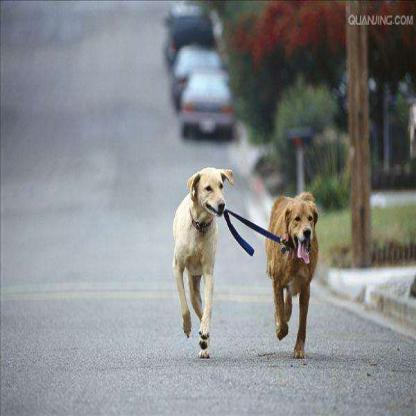Labarador Retriever: (169, 166, 235, 360), (268, 193, 319, 360)
